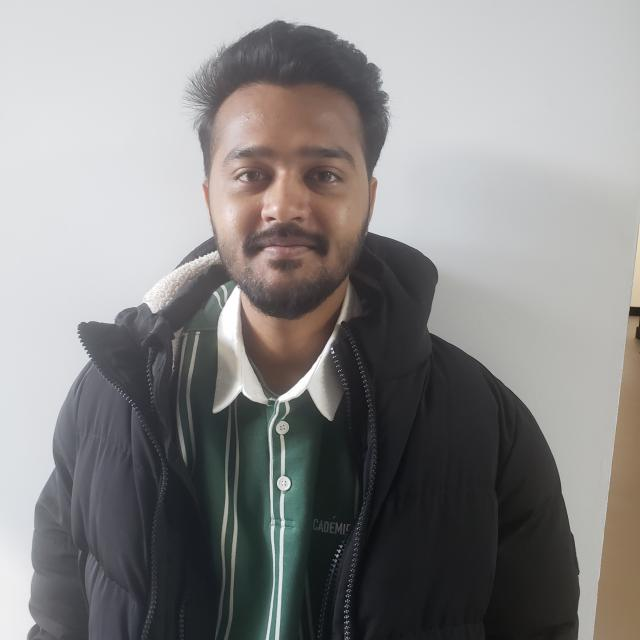sad: (176, 17, 391, 334)
